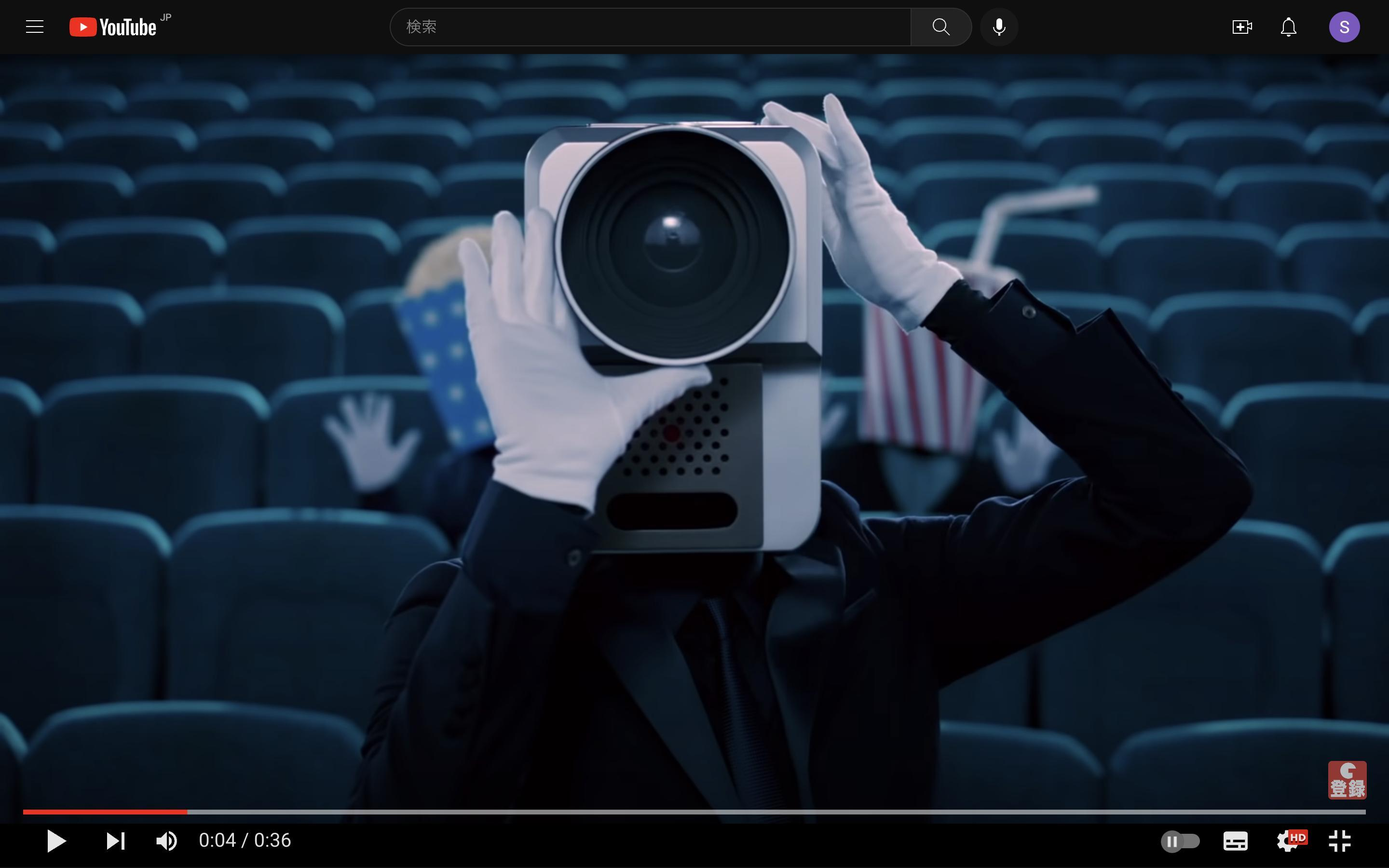no more kid: (528, 127, 826, 555)
